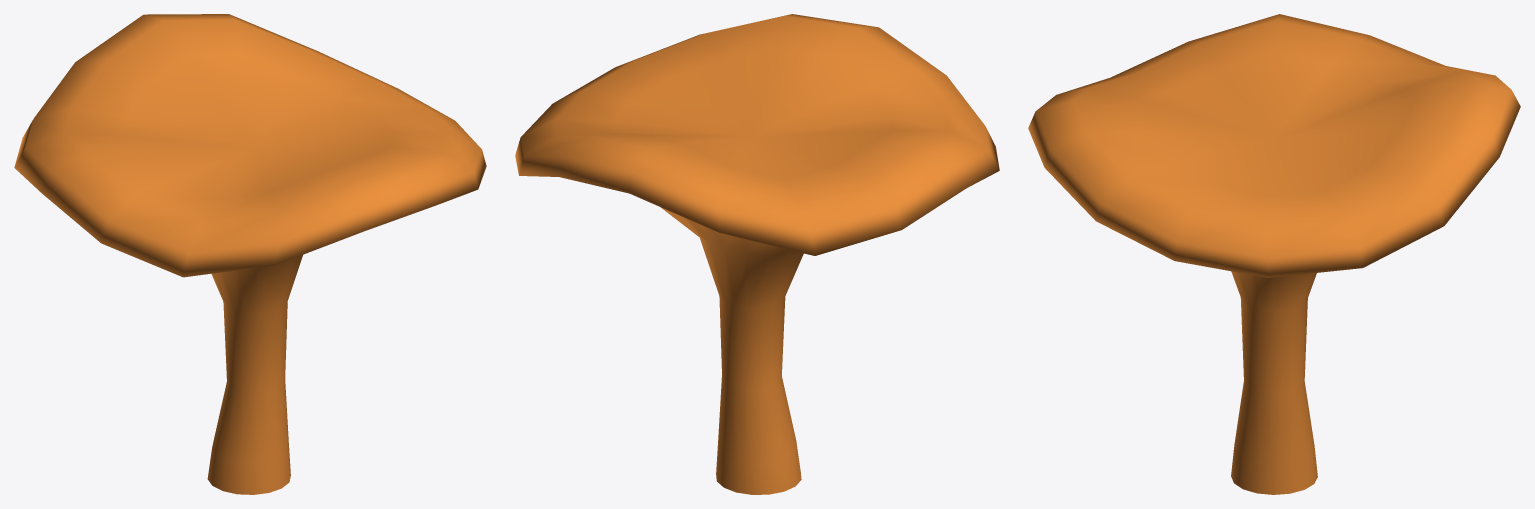
The model's file is SM_Chanterelle_01.fbx.
3 views of the same model, side by side, from view 1: azimuth 30°, elevation 25°; view 2: azimuth 150°, elevation 25°; view 3: azimuth 270°, elevation 25° (orthographic). The views are drawn at different scales.
Visible parts, largest first — view 1: Chanterelle_01; view 2: Chanterelle_01; view 3: Chanterelle_01.
Boxes of the visible parts, x1,y1,x2,y2 form: Chanterelle_01: (14,14,486,494); Chanterelle_01: (515,14,999,494); Chanterelle_01: (1028,14,1520,494).
Bounding box in the file's own units: 20 × 17.84 × 20.
